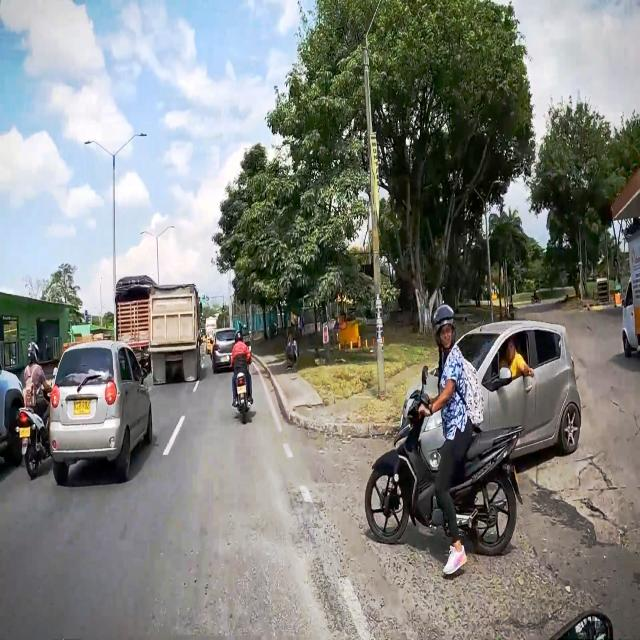license_plate: (72, 398, 91, 415)
